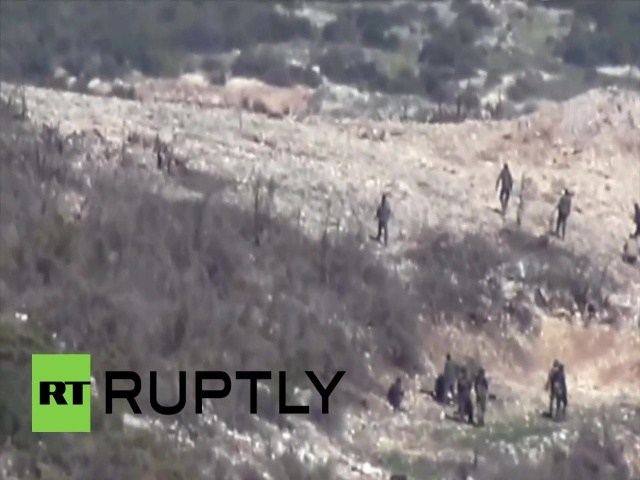person: (543, 360, 570, 420), (454, 364, 472, 427), (493, 162, 513, 215), (434, 351, 455, 401), (473, 365, 489, 424), (374, 193, 391, 243), (554, 189, 571, 238), (386, 374, 404, 412)
